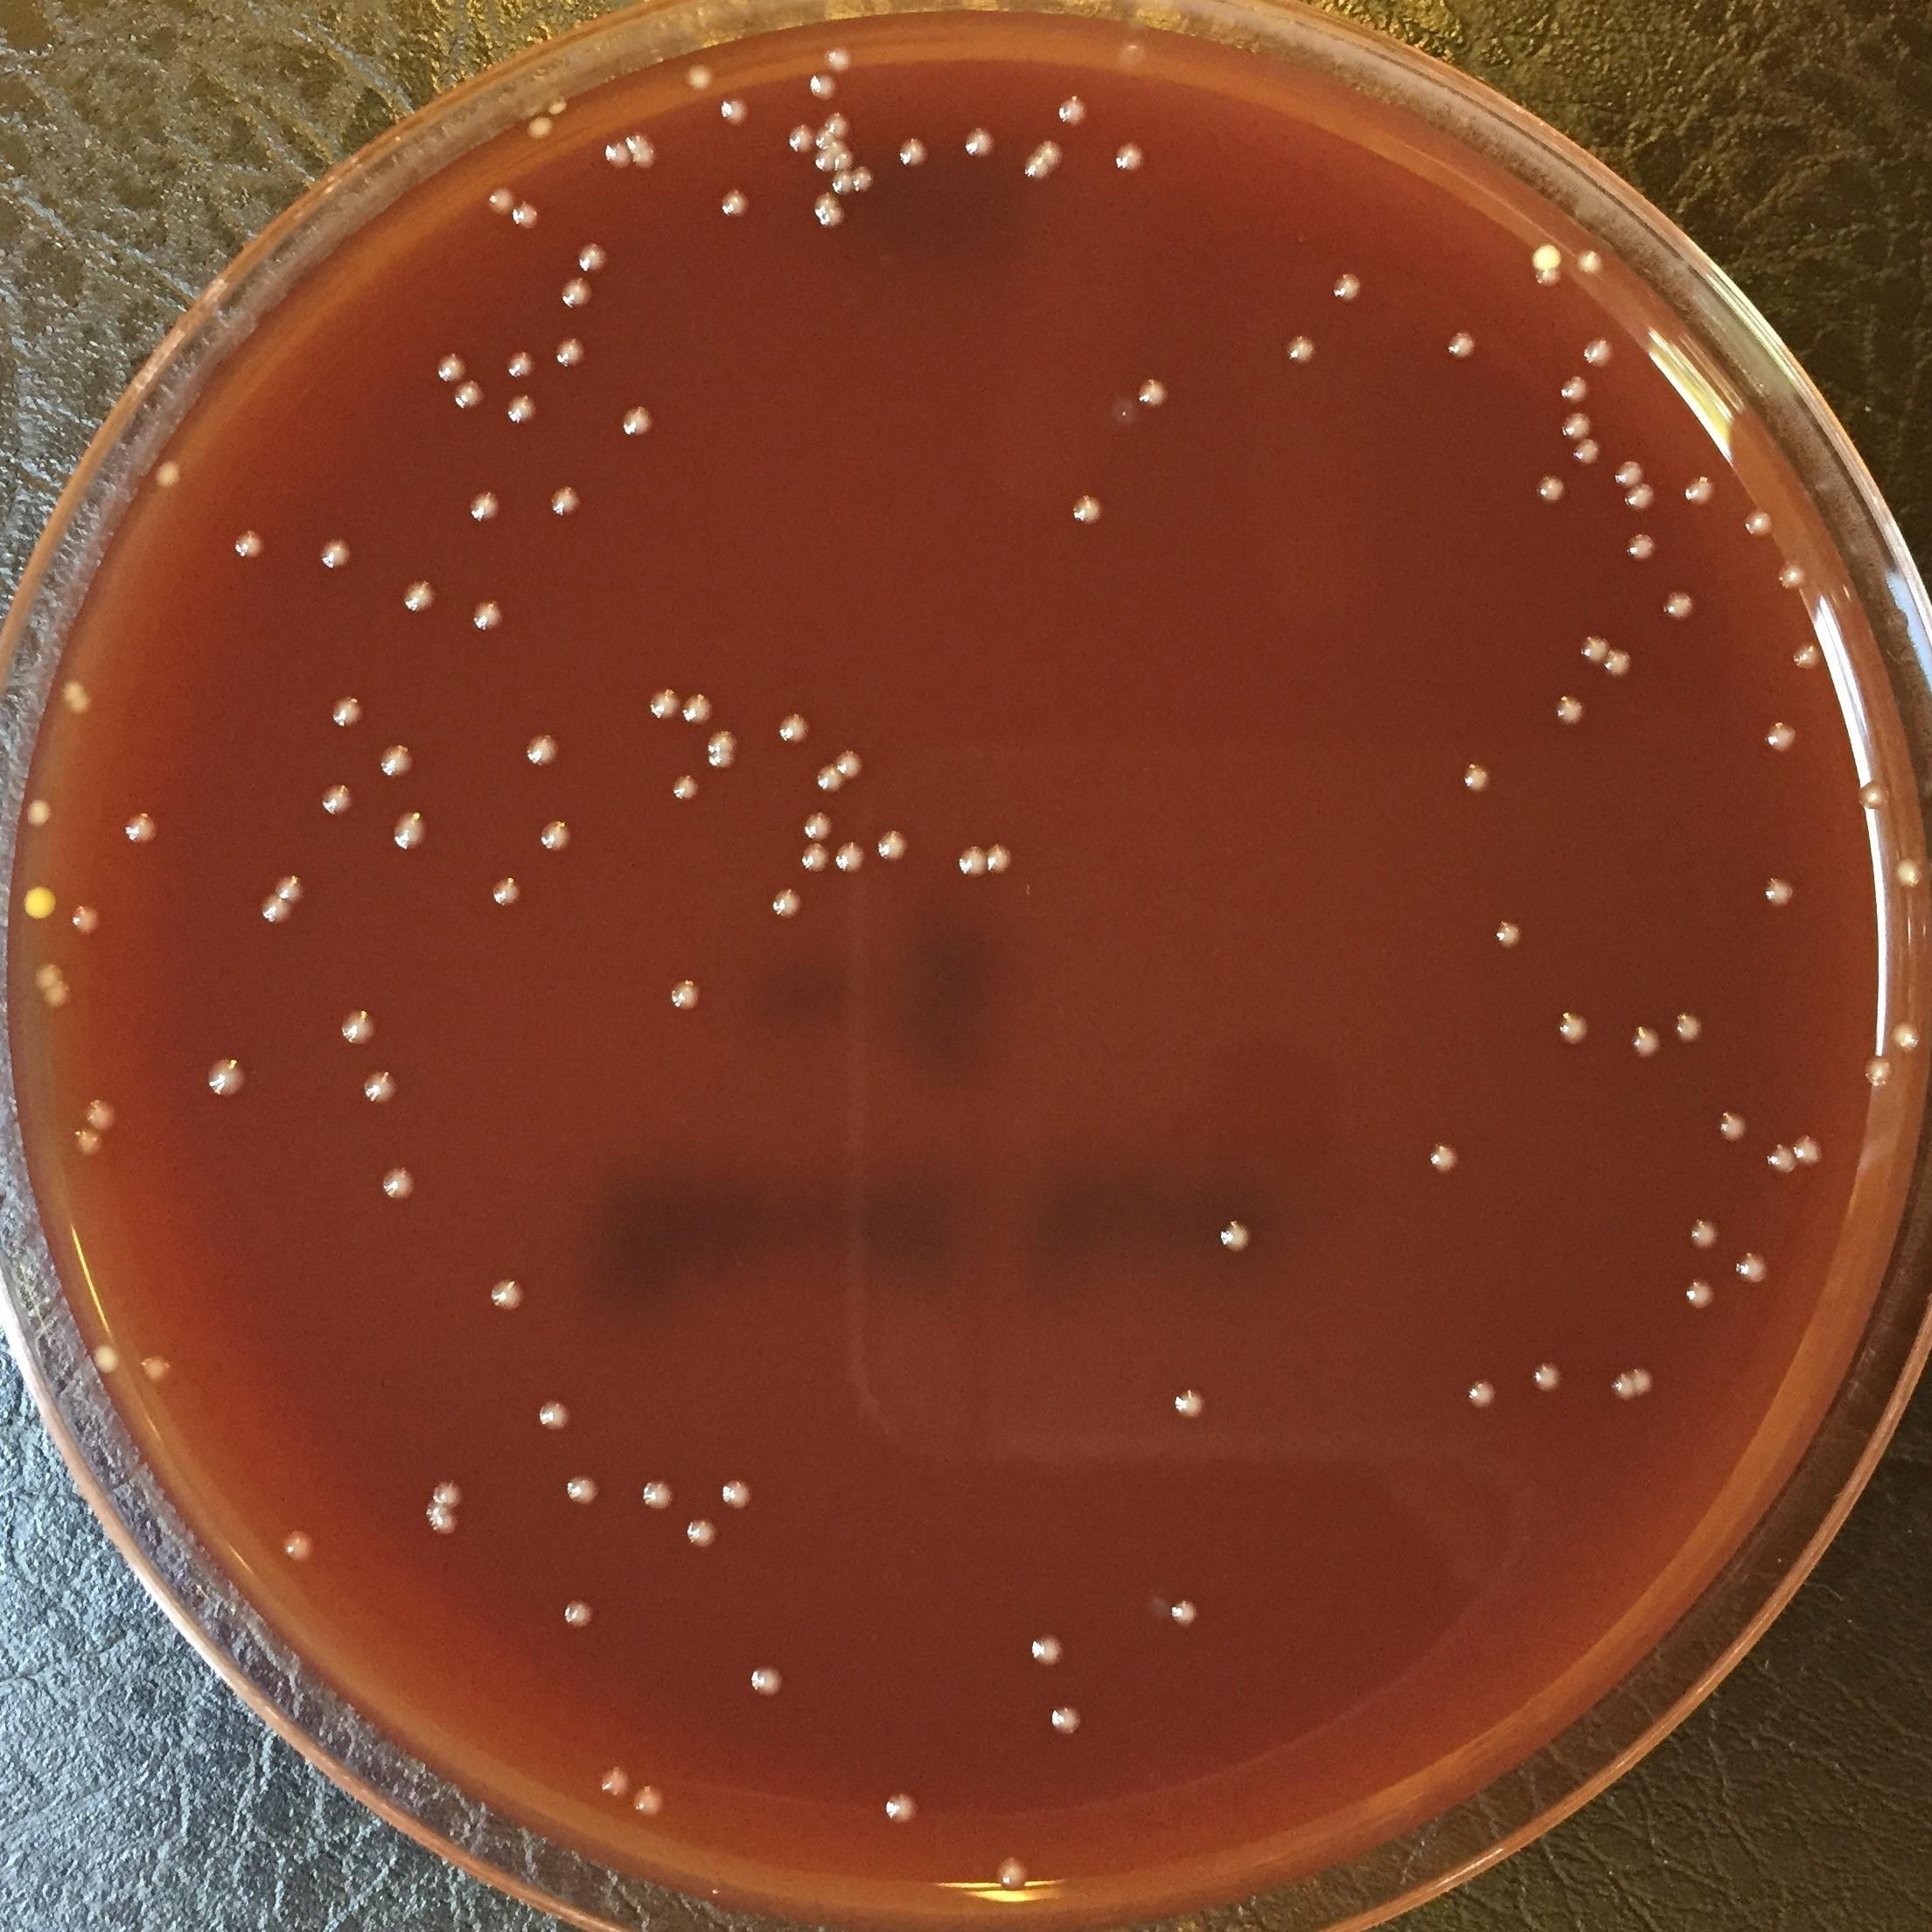sp06: (379, 736, 423, 787), (12, 876, 55, 927), (1624, 524, 1675, 564), (1677, 469, 1723, 511), (1548, 1008, 1594, 1051), (149, 451, 186, 502), (90, 1325, 124, 1382), (276, 1527, 320, 1569), (561, 1468, 605, 1511), (1023, 1633, 1070, 1672), (136, 1348, 175, 1396), (1730, 1247, 1775, 1288), (78, 1095, 122, 1136), (377, 1164, 421, 1205), (389, 812, 433, 853), (878, 1789, 924, 1828), (642, 1476, 683, 1518), (488, 1274, 531, 1315), (810, 193, 849, 237), (318, 778, 357, 823), (617, 405, 662, 444), (1773, 556, 1813, 596), (359, 1065, 400, 1106), (421, 1511, 464, 1550), (745, 1665, 787, 1704), (890, 136, 932, 175), (625, 1783, 671, 1819), (993, 1854, 1031, 1895), (318, 536, 361, 573), (1656, 587, 1700, 623), (594, 1766, 633, 1805), (203, 1056, 242, 1095), (1888, 1019, 1925, 1060), (1683, 1274, 1720, 1315), (465, 598, 506, 635), (329, 695, 372, 731), (954, 842, 993, 879), (403, 579, 442, 616), (679, 60, 718, 97), (1217, 1219, 1254, 1258), (1550, 692, 1591, 727), (1858, 1054, 1898, 1090), (717, 1477, 757, 1513), (228, 527, 269, 563), (502, 391, 538, 432), (540, 817, 577, 855), (524, 731, 561, 768), (801, 69, 839, 106), (1628, 1023, 1663, 1062), (524, 108, 559, 147), (1790, 1134, 1824, 1175), (559, 1599, 600, 1633), (1493, 913, 1525, 955), (768, 885, 803, 922), (1599, 646, 1635, 683), (1684, 1217, 1721, 1253), (1047, 1702, 1083, 1739), (547, 487, 584, 522), (720, 182, 755, 219), (1132, 377, 1171, 410), (1718, 1109, 1752, 1148), (683, 1518, 722, 1552), (628, 131, 660, 172), (777, 709, 812, 745), (646, 688, 681, 724), (1741, 506, 1776, 541), (260, 892, 295, 927), (552, 334, 587, 370), (961, 127, 996, 163), (681, 690, 715, 727), (1856, 777, 1890, 814), (1171, 1387, 1208, 1421), (122, 809, 156, 846), (1422, 1138, 1460, 1171), (579, 241, 610, 280), (876, 828, 909, 863), (341, 1008, 375, 1044), (504, 196, 538, 232), (432, 352, 467, 386), (800, 839, 832, 876), (1166, 1598, 1203, 1629), (1525, 237, 1564, 267), (1070, 494, 1104, 527), (1762, 718, 1796, 752), (1463, 1378, 1497, 1412), (21, 794, 55, 828), (1580, 336, 1615, 368), (1621, 481, 1656, 513), (1578, 633, 1614, 665), (1674, 1010, 1706, 1046), (1530, 1362, 1566, 1394), (540, 1394, 571, 1430), (488, 876, 524, 908), (465, 488, 501, 520), (1532, 474, 1569, 504), (1458, 763, 1495, 793), (479, 186, 517, 216), (1113, 143, 1150, 173), (453, 377, 481, 416), (833, 840, 865, 874), (669, 977, 701, 1010), (1445, 329, 1479, 361), (1610, 458, 1644, 490), (1891, 856, 1923, 890), (1626, 1366, 1658, 1399), (73, 1127, 106, 1159), (42, 982, 76, 1014), (506, 349, 540, 380), (824, 110, 858, 142), (1575, 246, 1608, 278), (272, 872, 308, 902), (1555, 410, 1592, 439), (803, 810, 835, 842), (1284, 334, 1316, 366), (1330, 271, 1362, 303), (557, 276, 589, 308), (69, 902, 103, 932), (30, 959, 64, 989), (1568, 437, 1603, 465), (1787, 640, 1822, 669), (816, 763, 847, 793), (1767, 1143, 1798, 1175), (1056, 92, 1086, 124), (1030, 138, 1062, 168), (985, 842, 1014, 876), (786, 124, 816, 154), (835, 748, 863, 780), (1610, 1373, 1638, 1405), (432, 1477, 464, 1506), (671, 775, 704, 801), (1760, 872, 1787, 906), (65, 695, 99, 722), (1019, 154, 1049, 182), (596, 140, 628, 166), (823, 48, 851, 76), (1560, 375, 1591, 402), (851, 163, 878, 193), (706, 729, 738, 754), (718, 94, 748, 119), (543, 99, 571, 124), (814, 126, 839, 152), (833, 166, 855, 196), (58, 671, 83, 695), (706, 752, 736, 771), (1537, 267, 1560, 288), (833, 147, 853, 166), (816, 150, 835, 170)
